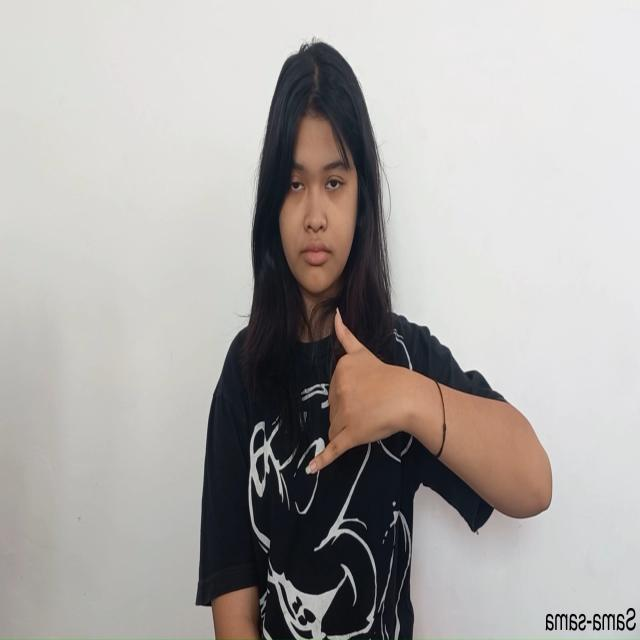Sama-sama -BISINDO-: (308, 304, 408, 476)
